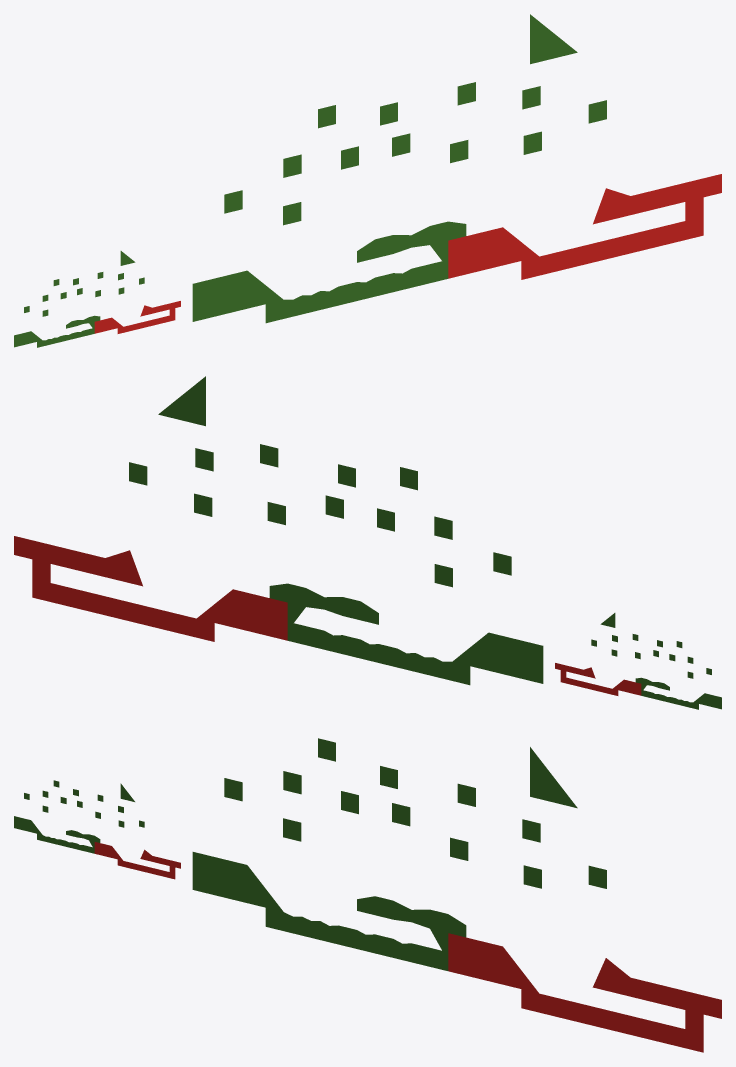
The model's file is spriteTest.glb.
3 views of the same model, one above another, from view 1: azimuth 30°, elevation 25°; view 2: azimuth 150°, elevation 25°; view 3: azimuth 330°, elevation 25° (orthographic).
Parts seen in each view (by area): view 1: Plane.129, Plane.091; view 2: Plane.129, Plane.091; view 3: Plane.129, Plane.091.
Boxes of the visible parts, x1,y1,x2,y2 form: Plane.129: (530,14,577,64); Plane.091: (593,188,630,224); Plane.129: (158,376,205,426); Plane.091: (105,550,142,586); Plane.129: (530,747,577,808); Plane.091: (592,958,630,996).
Bounding box in the file's own units: 246 × 87.5 × 4.79e-06.
